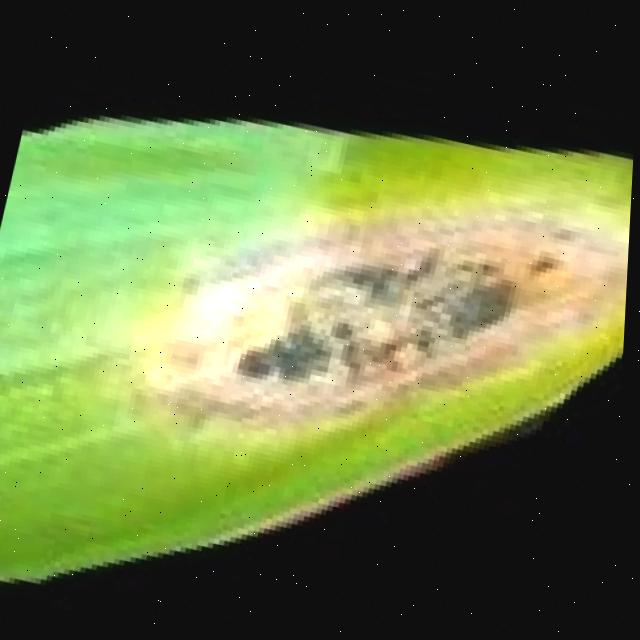mite: (227, 201, 524, 438), (228, 312, 338, 398), (520, 246, 562, 284), (234, 344, 276, 381), (326, 315, 362, 347)
sunburn: (0, 12, 635, 640)
